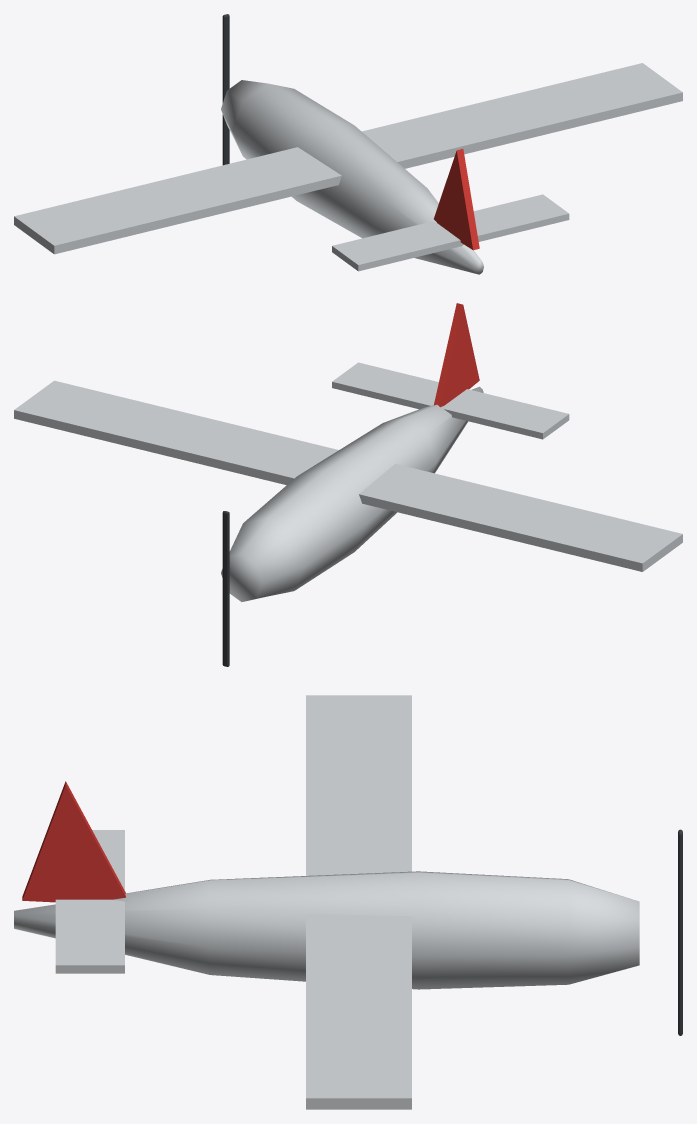
Rendered from fable-t01-aircraft-lod2.glb.
The picture shows the model from 3 angles, top to bottom: view 1: azimuth 30°, elevation 25°; view 2: azimuth 150°, elevation 25°; view 3: azimuth 270°, elevation 25°; orthographic projection. The views are drawn at different scales.
Parts seen in each view (by area): view 1: LOD2_Wing, LOD2_Fuselage, LOD2_Tailplane, LOD2_Fin, LOD2_Propeller; view 2: LOD2_Wing, LOD2_Fuselage, LOD2_Tailplane, LOD2_Fin, LOD2_Propeller; view 3: LOD2_Fuselage, LOD2_Wing, LOD2_Fin, LOD2_Tailplane, LOD2_Propeller.
Boxes of the visible parts, x1,y1,x2,y2 form: LOD2_Wing: (14, 63, 682, 254); LOD2_Fuselage: (221, 80, 483, 274); LOD2_Tailplane: (332, 194, 569, 271); LOD2_Fin: (434, 149, 479, 250); LOD2_Propeller: (222, 14, 229, 165); LOD2_Wing: (14, 380, 682, 571); LOD2_Fuselage: (221, 386, 483, 601); LOD2_Tailplane: (332, 362, 569, 439); LOD2_Fin: (434, 303, 479, 407); LOD2_Propeller: (222, 511, 229, 666); LOD2_Fuselage: (14, 871, 639, 989); LOD2_Wing: (306, 695, 411, 1109); LOD2_Fin: (22, 781, 125, 902); LOD2_Tailplane: (55, 830, 124, 973); LOD2_Propeller: (678, 829, 682, 1035).
Size of the model in its own units: 11.44 by 3.33 by 8.02.
